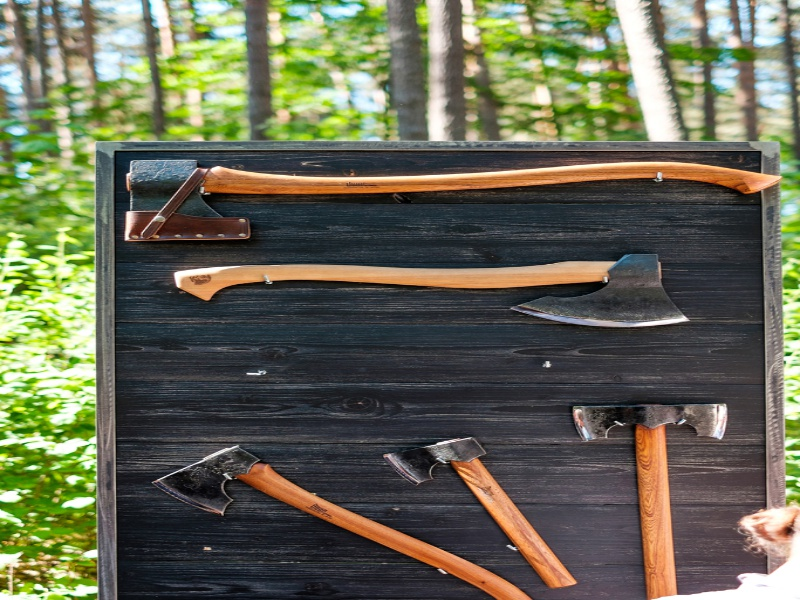axe: (446, 251, 701, 335), (116, 157, 306, 244), (146, 443, 328, 533), (571, 396, 741, 460), (376, 433, 503, 490)
